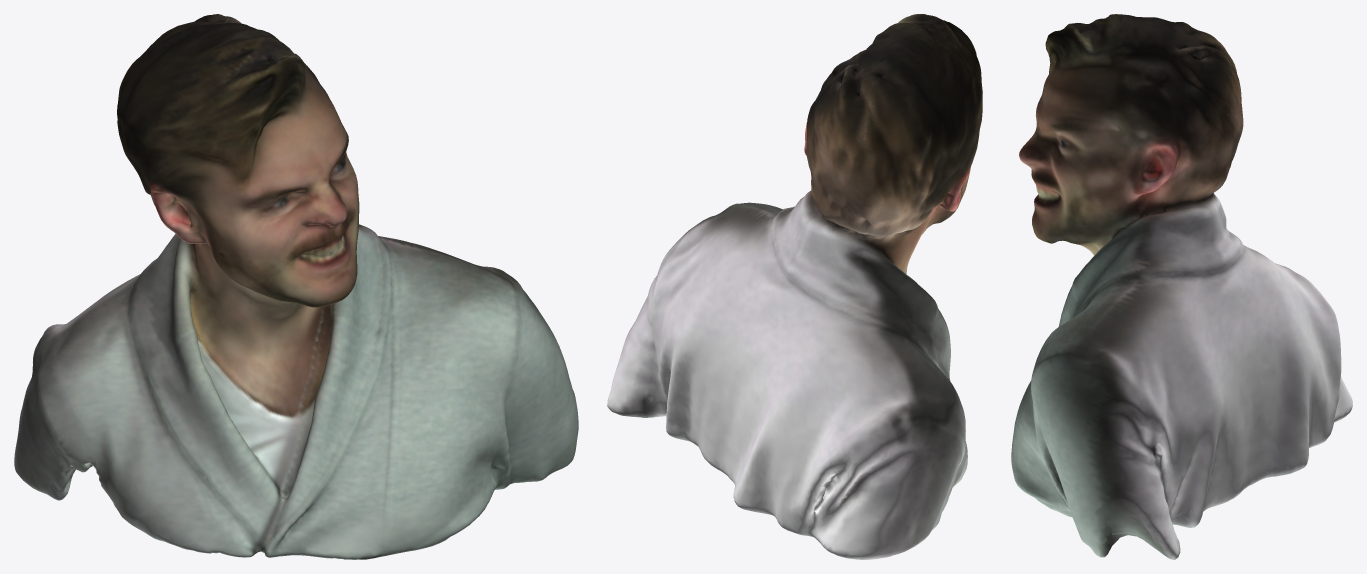
3 views of the same model, side by side, from view 1: azimuth 30°, elevation 25°; view 2: azimuth 150°, elevation 25°; view 3: azimuth 270°, elevation 25° (orthographic). The views are drawn at different scales.
Parts seen in each view (by area): view 1: Mesh; view 2: Mesh; view 3: Mesh.
Boxes of the visible parts, x1,y1,x2,y2 form: Mesh: (14,14,578,559); Mesh: (607,14,982,559); Mesh: (1011,14,1352,559).
Size of the model in its own units: 0.4641 by 0.4918 by 0.3653.
Materials: 1 (1 with a texture image).
